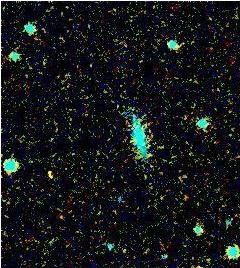star: (37, 163, 67, 193)
